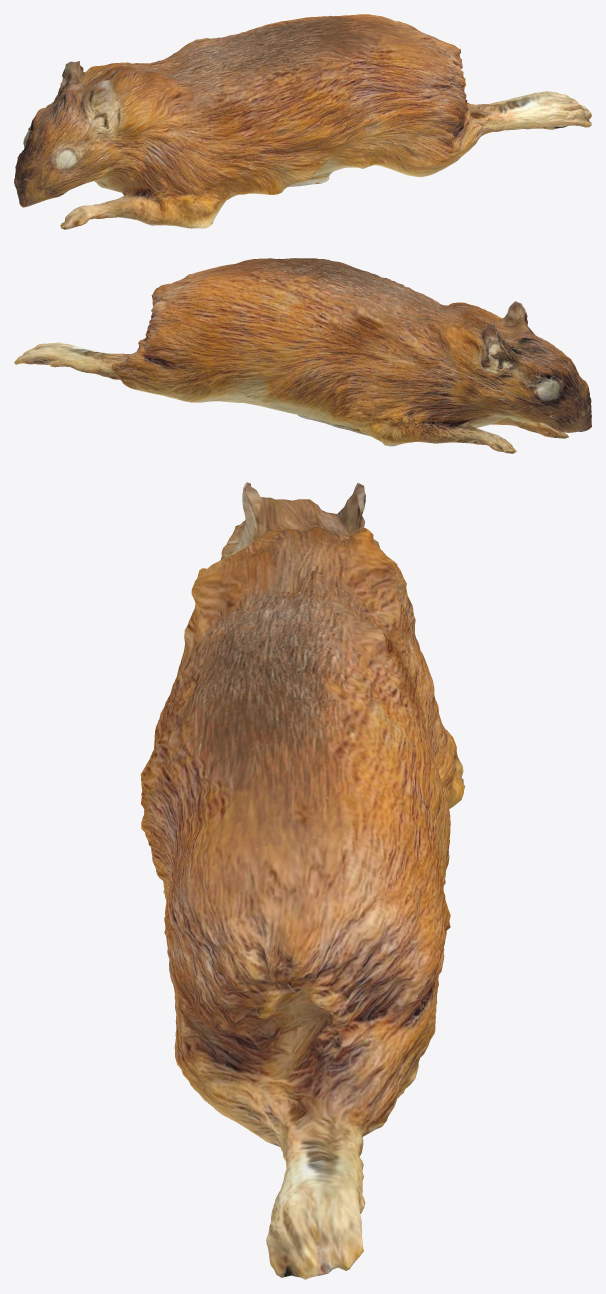
Rendered from nm__agouti.glb.
3 views of the same model, one above another, from view 1: azimuth 30°, elevation 25°; view 2: azimuth 150°, elevation 25°; view 3: azimuth 270°, elevation 25° (orthographic). The views are drawn at different scales.
Parts seen in each view (by area): view 1: Object_4; view 2: Object_4; view 3: Object_4.
Boxes of the visible parts, x1,y1,x2,y2 form: Object_4: (14,14,591,229); Object_4: (14,258,591,453); Object_4: (140,482,464,1279).
Size of the model in its own units: 0.2141 by 0.0609 by 0.054.
1 material, 1 textured.
